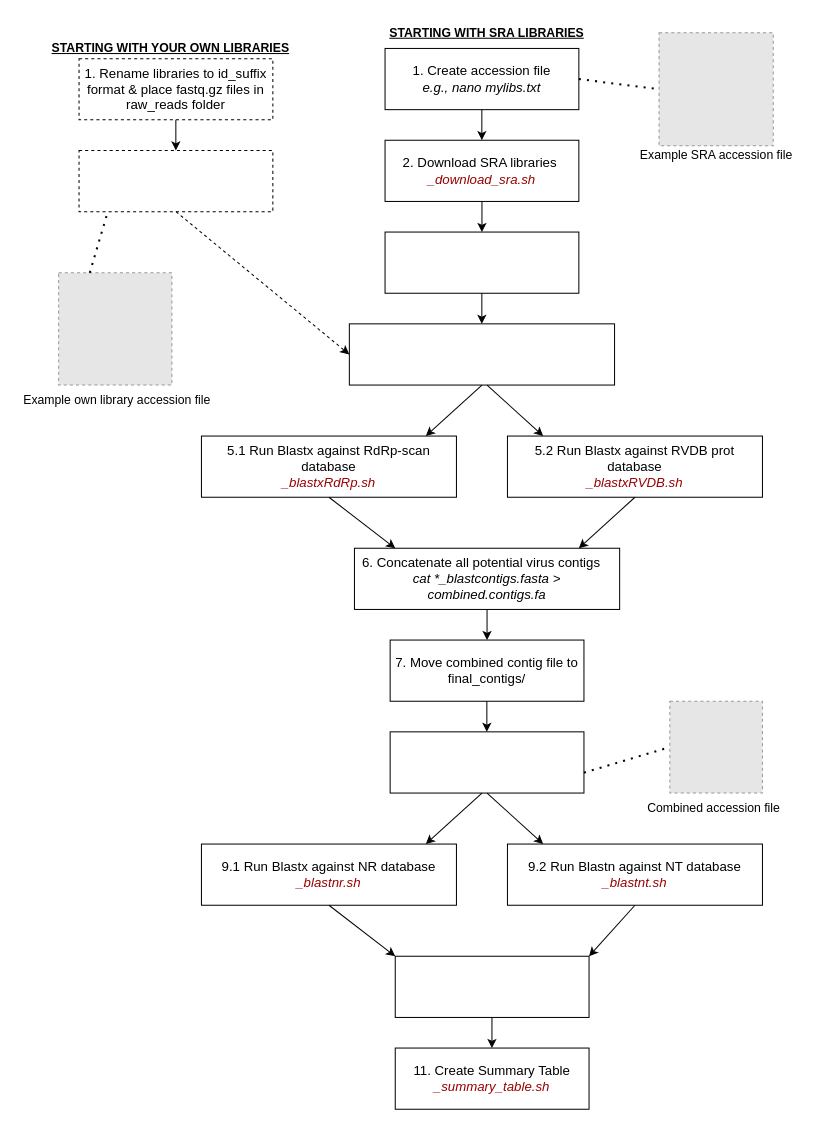
The diagram is 830 pixels wide and 1127 high, and some of its shapes have lost their labels. Grey dashed boxes stand in for pictures. The shapes that lost their labels are listed below. From the top down, each one's box as (x1, y1, x2, y2) in pixels, then its label:
(78, 149, 273, 212): 2. Create accession file
(384, 231, 579, 293): 3. Check SRA download completion check_sra_downloads.sh
(348, 323, 615, 385): 4. Trim Assembly and Abundance _trim_assembly_abundance.sh
(389, 731, 584, 793): 8. Create a new accession file
(394, 955, 589, 1017): 10. Count the number of reads in each library _readcount.sh
